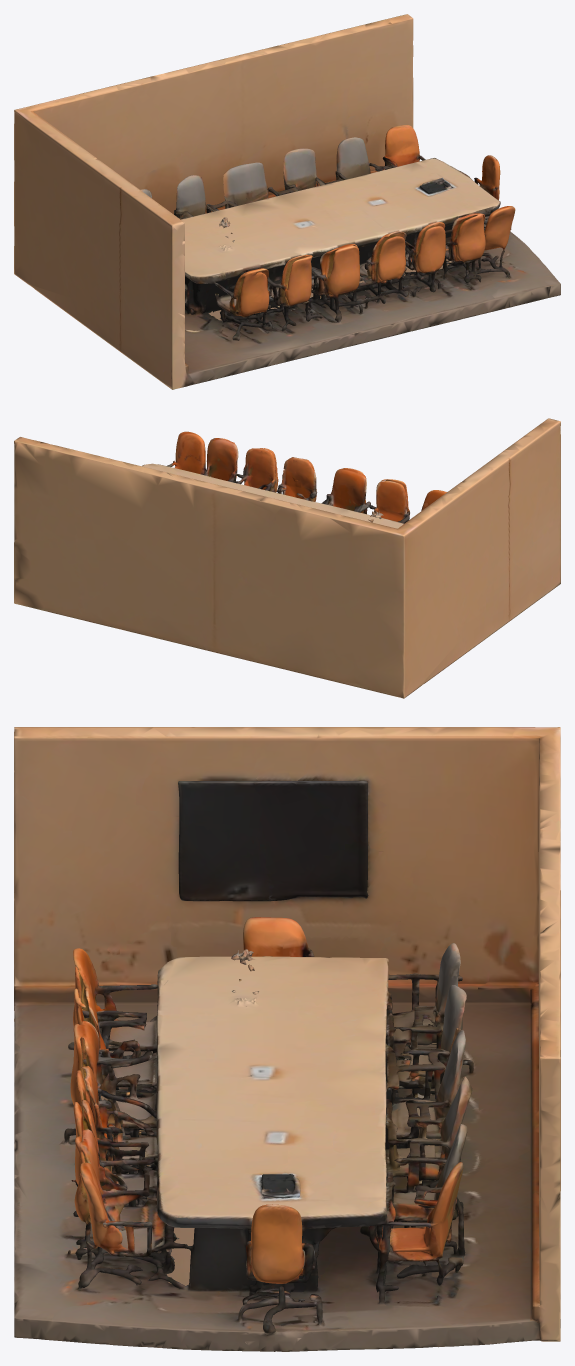
3 renders of one model, top to bottom at view 1: azimuth 30°, elevation 25°; view 2: azimuth 150°, elevation 25°; view 3: azimuth 270°, elevation 25°, orthographic. The views are drawn at different scales.
Bounding box in the file's own units: 2 × 0.7695 × 1.34.
1 material, 1 textured.
